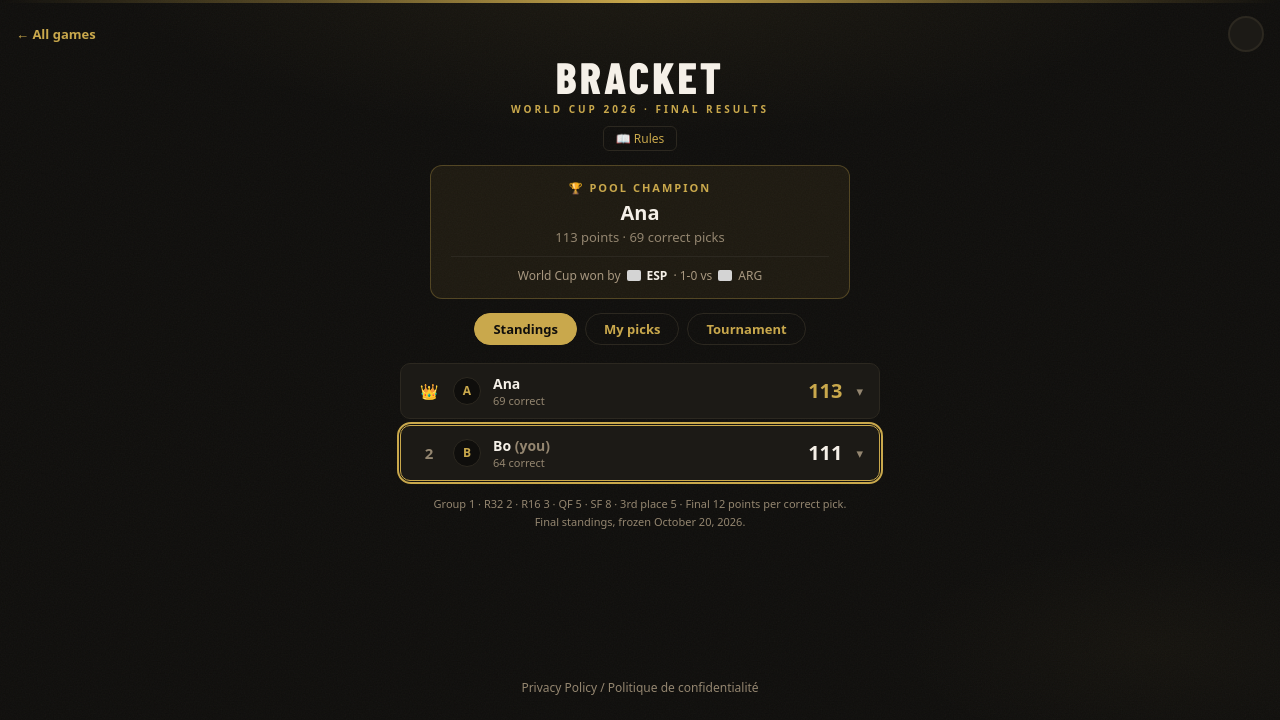
Test: Bracket: expandable rows (F168) › opens a standings row from a named toggle into a separate history region
The image size is (1280, 720).
Click the button "2 B Bo (you) 64 correct 111 ▾" at {"x": 438, "y": 463}, box [401,426,879,480]
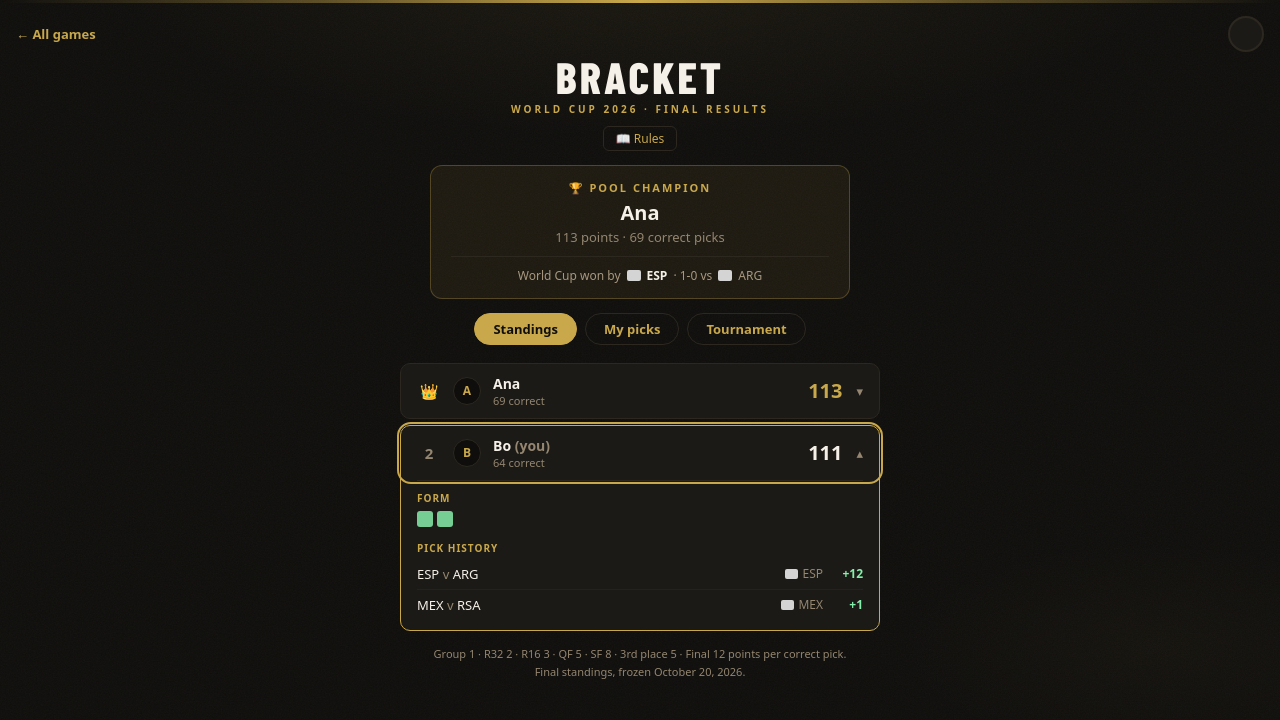
Expected: the button "2 B Bo (you) 64 correct 111 ▴" is expanded, [401,426,879,480]
